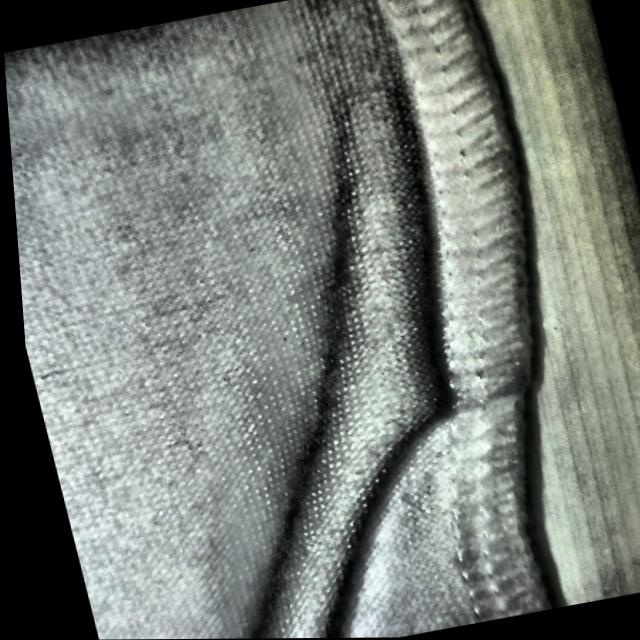seam: (260, 225, 579, 542)
